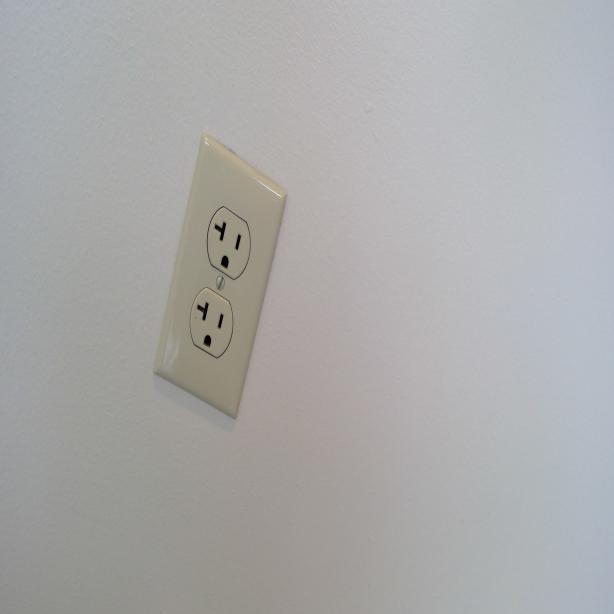typeb: (207, 210, 252, 278), (191, 288, 228, 358)
